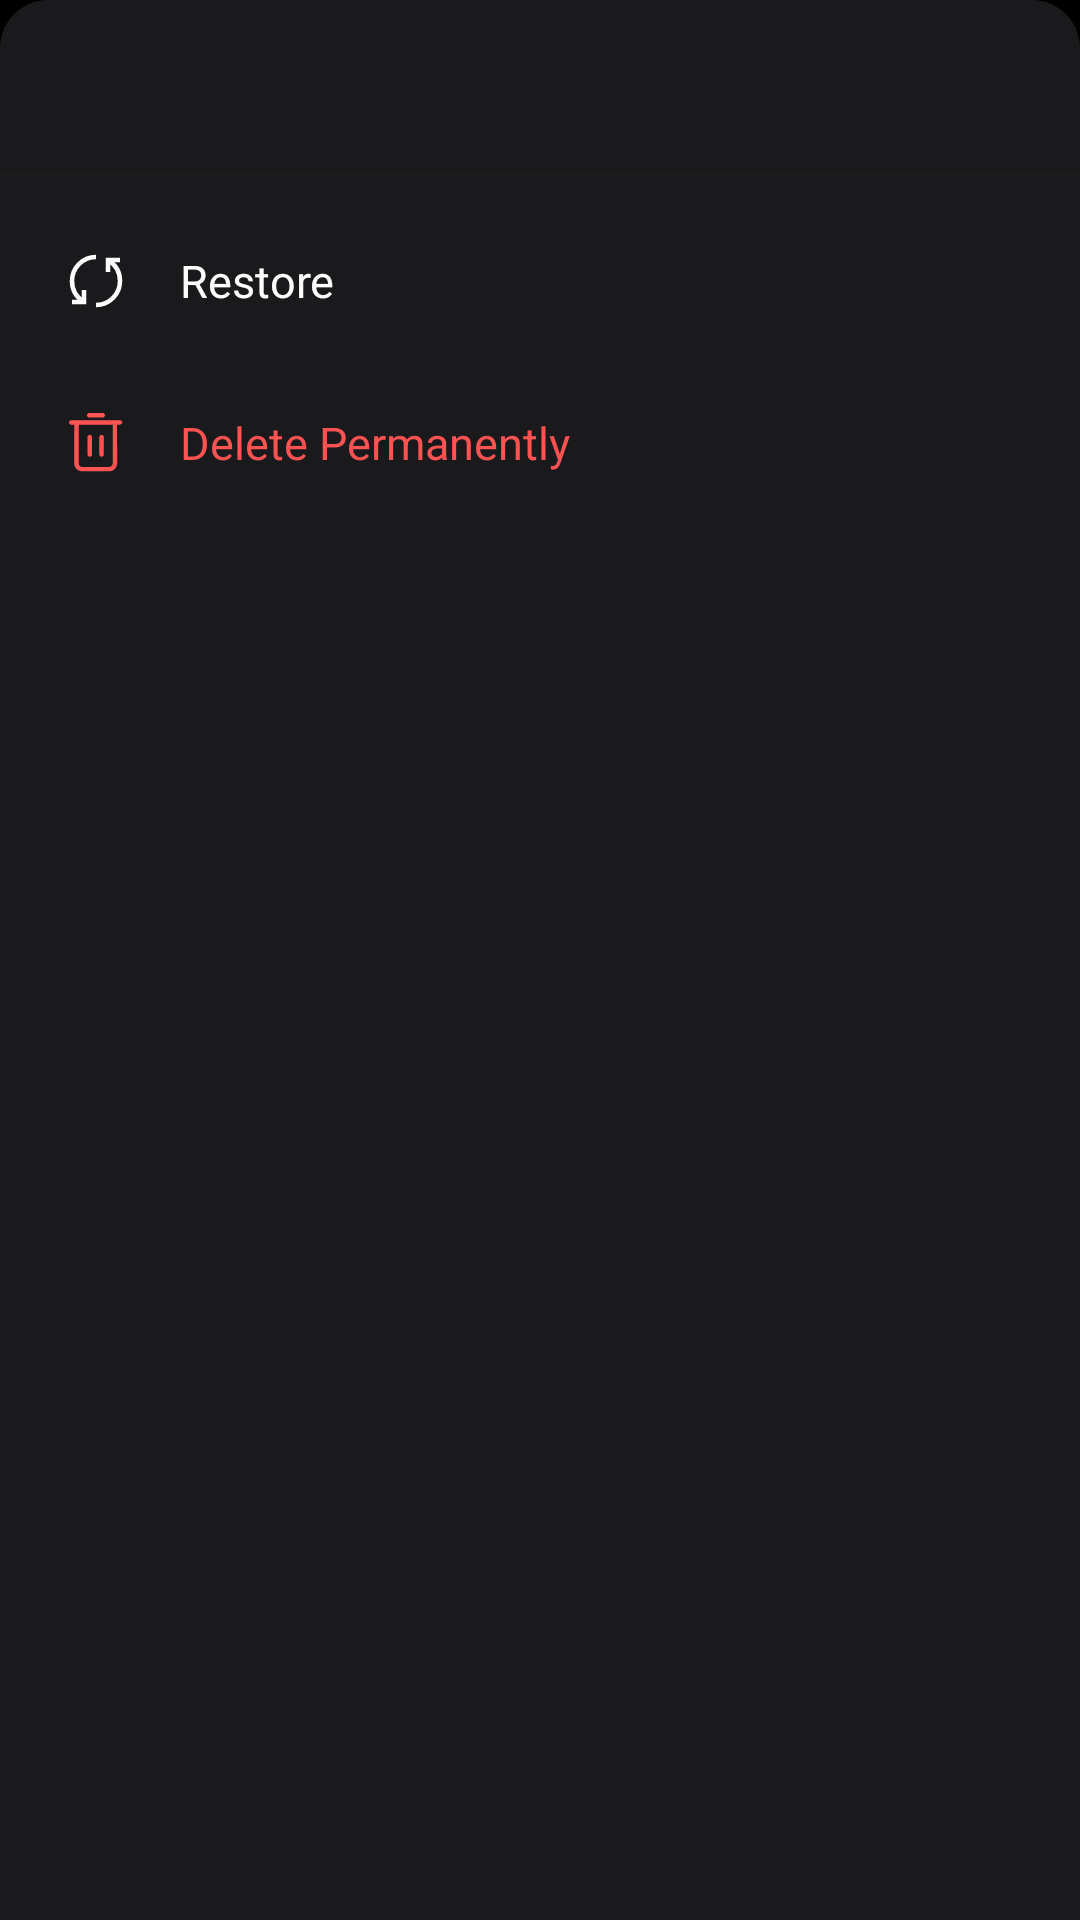

Screen size 1080px×1920px. Icon name, then its center in pixels as point (x, y):
trash stroke: point (96, 442)
